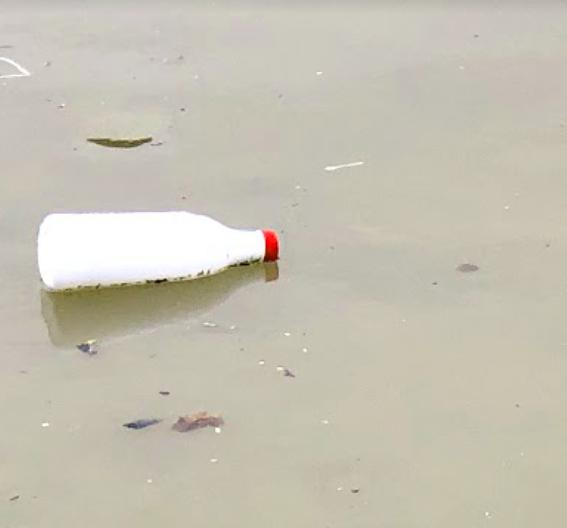Plastic: (37, 208, 280, 293)
